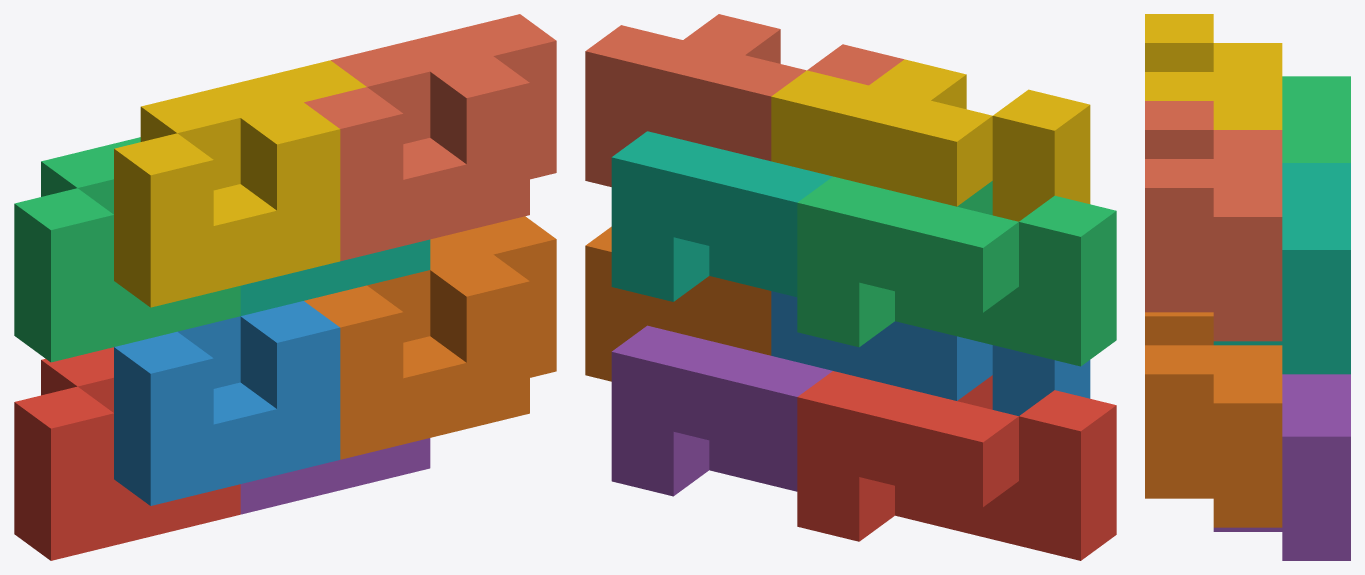
Rendered from tiling.obj.
The picture shows the model from 3 angles, left to right: view 1: azimuth 30°, elevation 25°; view 2: azimuth 150°, elevation 25°; view 3: azimuth 270°, elevation 25°; orthographic projection. The views are drawn at different scales.
Parts seen in each view (by area): view 1: copy_1_domain_4, copy_1_domain_8, copy_1_domain_6, copy_1_domain_2, copy_1_domain_3, copy_1_domain_1, copy_1_domain_5, copy_1_domain_7; view 2: copy_1_domain_3, copy_1_domain_1, copy_1_domain_4, copy_1_domain_5, copy_1_domain_7, copy_1_domain_8, copy_1_domain_2, copy_1_domain_6; view 3: copy_1_domain_8, copy_1_domain_6, copy_1_domain_7, copy_1_domain_5, copy_1_domain_4, copy_1_domain_3.
Part boxes in pixels (left/top/right/bottom): copy_1_domain_4: left=114, top=60, right=366, bottom=307; copy_1_domain_8: left=304, top=14, right=556, bottom=261; copy_1_domain_6: left=304, top=216, right=556, bottom=459; copy_1_domain_2: left=114, top=301, right=340, bottom=505; copy_1_domain_3: left=14, top=137, right=240, bottom=362; copy_1_domain_1: left=14, top=347, right=240, bottom=560; copy_1_domain_5: left=240, top=438, right=430, bottom=514; copy_1_domain_7: left=240, top=239, right=430, bottom=315; copy_1_domain_3: left=797, top=176, right=1116, bottom=366; copy_1_domain_1: left=797, top=371, right=1116, bottom=560; copy_1_domain_4: left=771, top=59, right=1090, bottom=221; copy_1_domain_5: left=611, top=325, right=832, bottom=496; copy_1_domain_7: left=611, top=131, right=832, bottom=301; copy_1_domain_8: left=585, top=14, right=903, bottom=186; copy_1_domain_2: left=771, top=291, right=1090, bottom=415; copy_1_domain_6: left=585, top=226, right=771, bottom=381; copy_1_domain_8: left=1145, top=101, right=1282, bottom=341; copy_1_domain_6: left=1145, top=312, right=1282, bottom=527; copy_1_domain_7: left=1213, top=163, right=1350, bottom=374; copy_1_domain_5: left=1213, top=374, right=1350, bottom=560; copy_1_domain_4: left=1145, top=14, right=1282, bottom=129; copy_1_domain_3: left=1282, top=76, right=1350, bottom=162.
Bounding box in the file's own units: 8 × 6 × 3.
